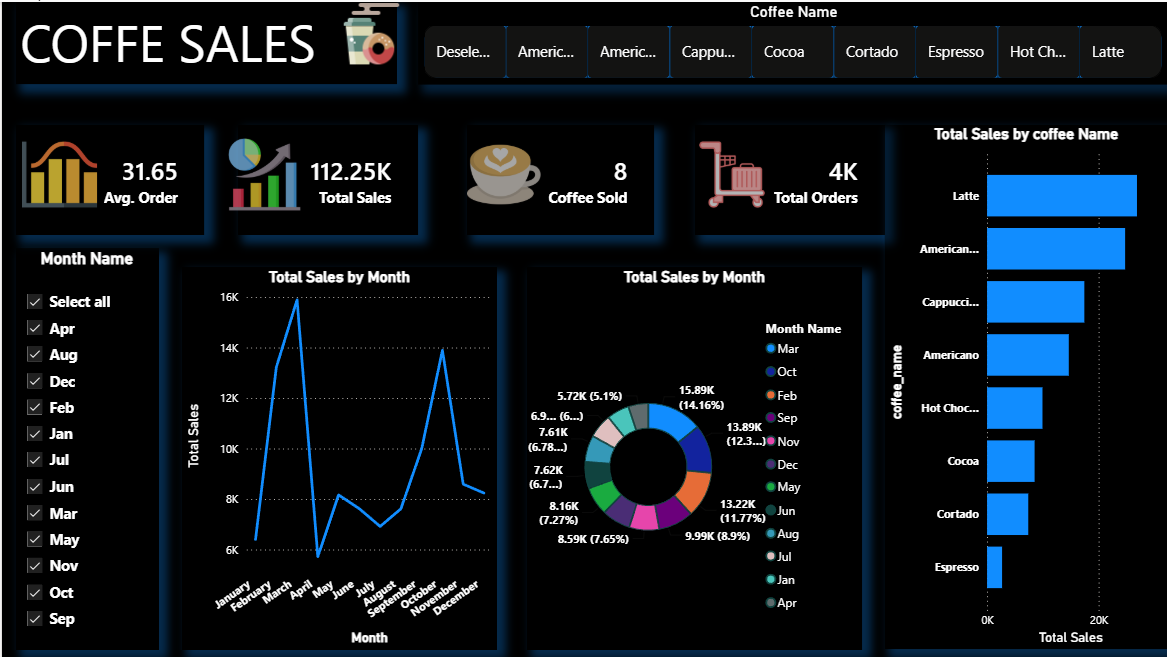

Layout of this report page (visuals, bound fields, positions):
{"tool":"powerbi","page":{"name":"Page 1","canvas":[1280,720],"ordinal":0},"visuals":[{"type":"cardVisual","fields":{"Data":["Coffe_sales.Average Order Value"]},"box":[15.1,134.5,207.2,120.8],"z":0},{"type":"cardVisual","fields":{"Data":["Coffe_sales.Coffee Types Sold"]},"box":[510.5,134.5,205.8,120.8],"z":1000},{"type":"cardVisual","fields":{"Data":["Coffe_sales.Total Sales"]},"box":[259.3,134.5,197.6,120.8],"z":2000},{"type":"cardVisual","fields":{"Data":["Coffe_sales.Total Orders"]},"box":[760.2,134.5,208.6,120.8],"z":3000},{"type":"lineChart","fields":{"Category":["Coffe_sales.Date.Variation.Date Hierarchy.Month"],"Y":["Coffe_sales.Total Sales"]},"box":[197.6,290.9,345.8,419.9],"z":4000},{"type":"clusteredBarChart","title":"Total Sales by coffee Name","fields":{"Category":["Coffe_sales.coffee_name"],"Y":["Coffe_sales.Total Sales"]},"box":[968.8,134.5,311.5,576.3],"z":5000},{"type":"donutChart","title":"Total Sales by Month","fields":{"Category":["Coffe_sales.Month_name"],"Y":["Coffe_sales.Total Sales"]},"box":[576.3,290.9,367.8,419.9],"z":6000},{"type":"slicer","title":"Month Name","fields":{"Values":["Coffe_sales.Month_name"]},"box":[15.1,270.3,156.4,440.5],"z":7000},{"type":"textbox","box":[15.1,0,418.5,90.6],"z":8000},{"type":"image","box":[760.2,148.2,82.3,82.3],"z":9000},{"type":"image","box":[510.5,148.2,81,82.3],"z":10000},{"type":"image","box":[247,148.2,82.3,82.3],"z":11000},{"type":"image","box":[22,148.2,82.3,82.3],"z":12000},{"type":"advancedSlicerVisual","title":"Coffee Name","fields":{"Values":["Coffe_sales.coffee_name"]},"box":[456.9,0,823.3,90.6],"z":13000},{"type":"image","box":[344.4,0,122.1,70],"z":13001}]}

Visuals, with their boxes in screenshot pixels (x1, y1, x2, y2), scaled from the page's 1280x720 canvas onto the 1167x657 screenshot:
cardVisual - Coffe_sales.Average Order Value: detection(14, 123, 203, 233)
cardVisual - Coffe_sales.Coffee Types Sold: detection(465, 123, 653, 233)
cardVisual - Coffe_sales.Total Sales: detection(236, 123, 417, 233)
cardVisual - Coffe_sales.Total Orders: detection(693, 123, 883, 233)
lineChart - Coffe_sales.Date.Variation.Date Hierarchy.Month x Coffe_sales.Total Sales: detection(180, 265, 495, 649)
"Total Sales by coffee Name" clusteredBarChart: detection(883, 123, 1166, 649)
"Total Sales by Month" donutChart: detection(525, 265, 861, 649)
"Month Name" slicer: detection(14, 247, 156, 649)
textbox: detection(14, 0, 395, 83)
image: detection(693, 135, 768, 210)
image: detection(465, 135, 539, 210)
image: detection(225, 135, 300, 210)
image: detection(20, 135, 95, 210)
"Coffee Name" advancedSlicerVisual: detection(417, 0, 1166, 83)
image: detection(314, 0, 425, 64)
